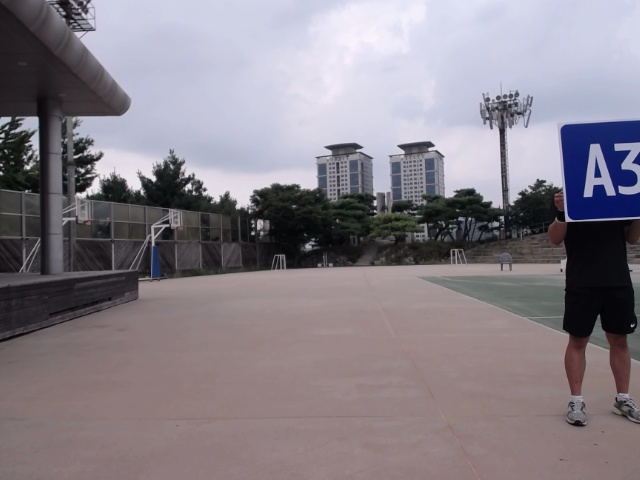delivery_a3: (560, 121, 640, 222)
